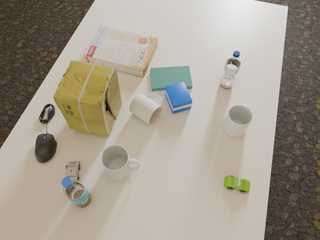book: (150, 66, 192, 91)
bottle: (62, 177, 91, 207), (220, 51, 241, 88)
box: (54, 60, 122, 137), (83, 25, 157, 77), (165, 81, 192, 114)
cup: (101, 145, 140, 181), (129, 94, 162, 125), (223, 105, 253, 137)
mouse: (35, 133, 57, 163)
toy_car: (224, 176, 250, 193), (66, 161, 81, 181)
